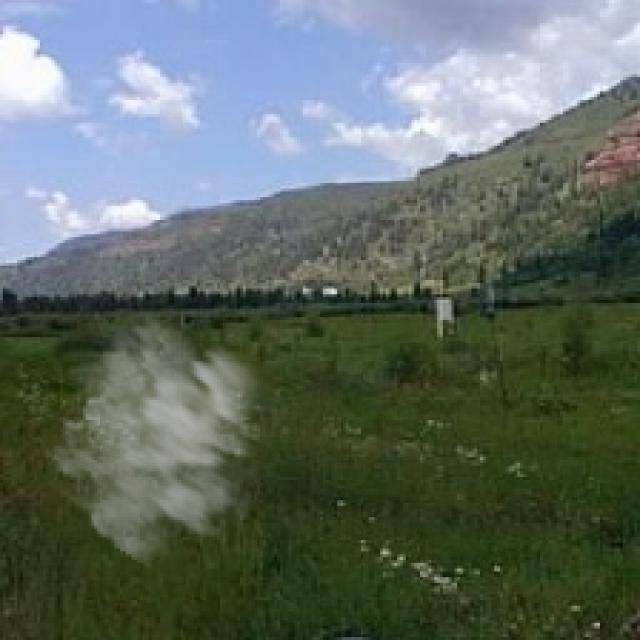smoke: (43, 303, 303, 577)
